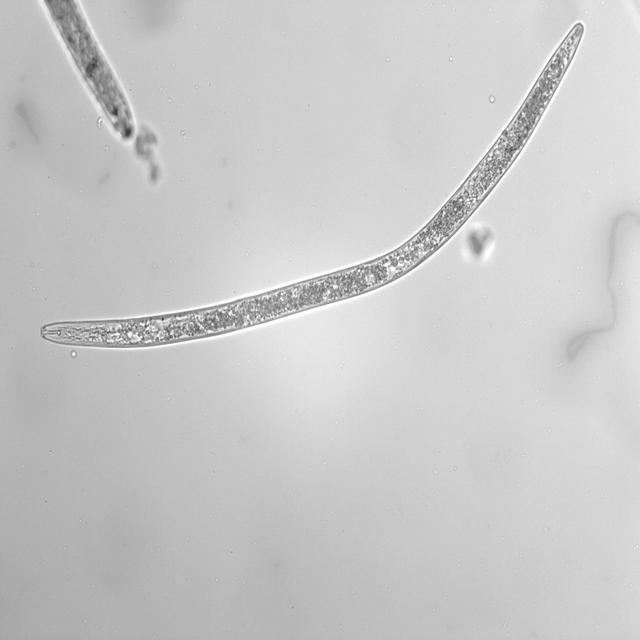Pratylenchus: (34, 23, 591, 352)
